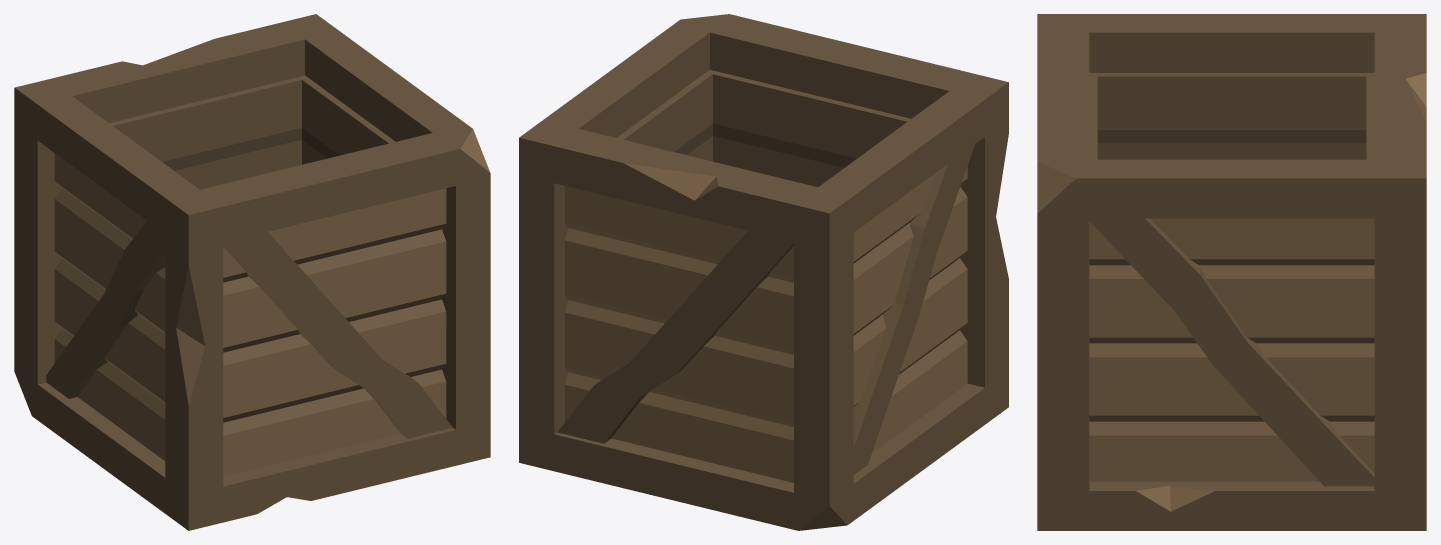
File: poly_crate_b.glb
The picture shows the model from 3 angles, left to right: view 1: azimuth 30°, elevation 25°; view 2: azimuth 150°, elevation 25°; view 3: azimuth 270°, elevation 25°; orthographic projection. The views are drawn at different scales.
Visible parts, largest first — view 1: SM_Prop_Crate_02; view 2: SM_Prop_Crate_02; view 3: SM_Prop_Crate_02.
Part boxes in pixels (x1,y1,x2,y2): SM_Prop_Crate_02: [14, 14, 490, 530]; SM_Prop_Crate_02: [519, 14, 1008, 530]; SM_Prop_Crate_02: [1037, 14, 1426, 530].
Bounding box in the file's own units: 76.65 × 76.65 × 76.65.
Materials: 1 (1 with a texture image).
